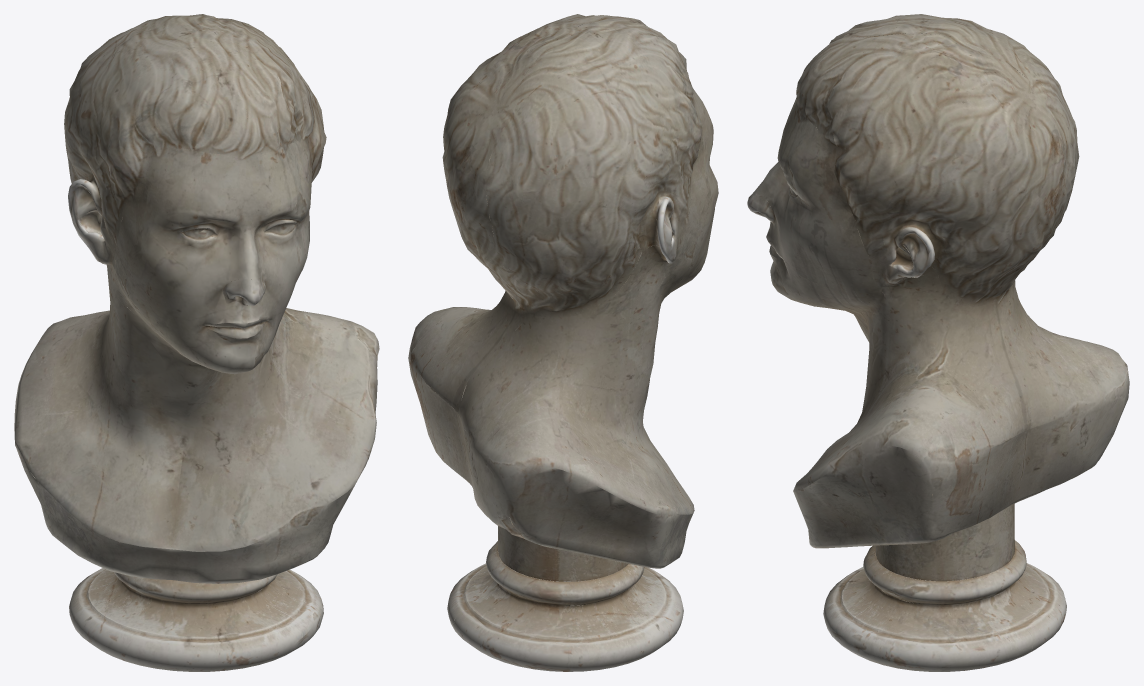
Rendered from marble_bust_01.glb.
The picture shows the model from 3 angles, left to right: view 1: azimuth 30°, elevation 25°; view 2: azimuth 150°, elevation 25°; view 3: azimuth 270°, elevation 25°; orthographic projection. The views are drawn at different scales.
Visible parts, largest first — view 1: marble_bust_01; view 2: marble_bust_01; view 3: marble_bust_01.
Boxes of the visible parts, bbox=[...] form: marble_bust_01: bbox=[14, 14, 379, 671]; marble_bust_01: bbox=[408, 14, 718, 671]; marble_bust_01: bbox=[747, 14, 1129, 671].
Size of the model in its own units: 0.2717 by 0.515 by 0.2998.
Materials: 1 (1 with a texture image).
